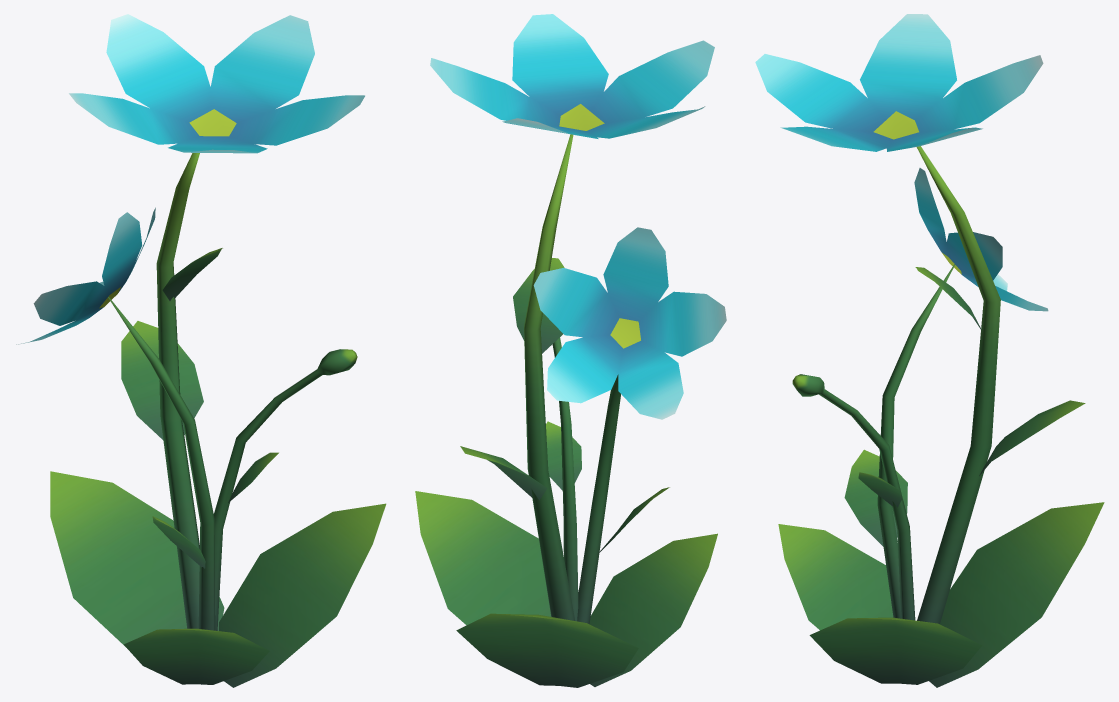
File: flower_007_base_material_0.fbx
3 views of the same model, side by side, from view 1: azimuth 30°, elevation 25°; view 2: azimuth 150°, elevation 25°; view 3: azimuth 270°, elevation 25° (orthographic).
Parts seen in each view (by area): view 1: flower_007_base_material_0; view 2: flower_007_base_material_0; view 3: flower_007_base_material_0.
Boxes of the visible parts, bbox=[...] form: flower_007_base_material_0: bbox=[16, 14, 386, 687]; flower_007_base_material_0: bbox=[415, 14, 726, 687]; flower_007_base_material_0: bbox=[755, 14, 1104, 687].
Bounding box in the file's own units: 1.66 × 1.53 × 2.94.
1 material, 1 textured.
